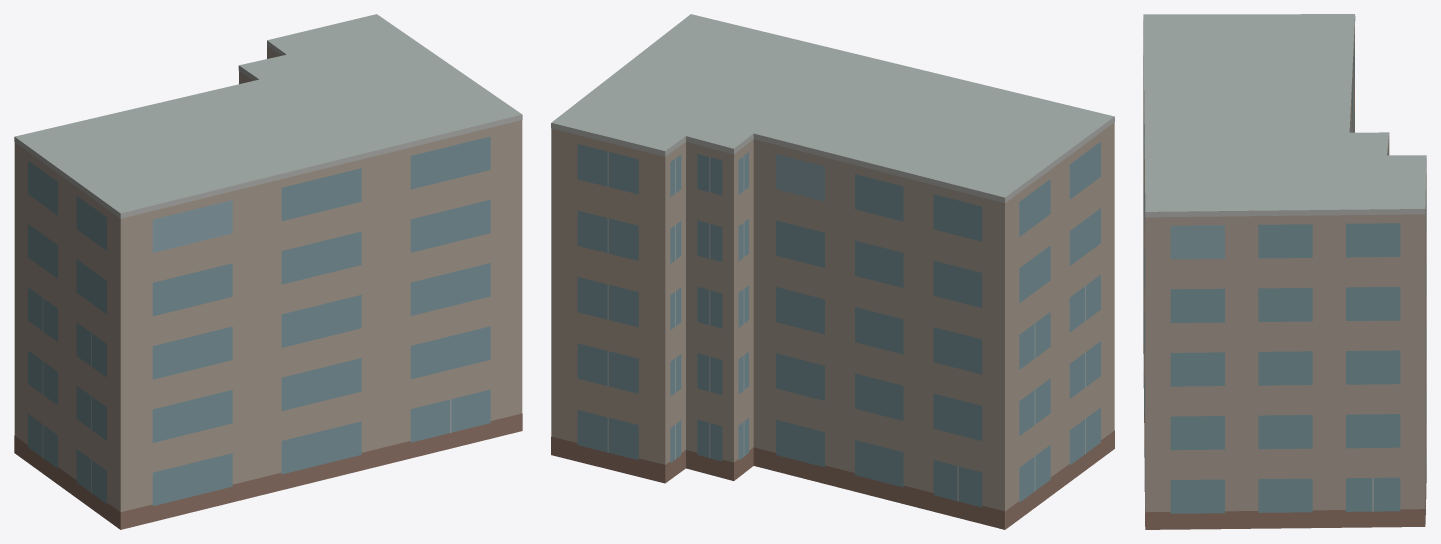
The model's file is survey-upis-32631863.glb.
The picture shows the model from 3 angles, left to right: view 1: azimuth 30°, elevation 25°; view 2: azimuth 150°, elevation 25°; view 3: azimuth 270°, elevation 25°; orthographic projection. The views are drawn at different scales.
Visible parts, largest first — view 1: survey-upis-32631863.tmp; view 2: survey-upis-32631863.tmp; view 3: survey-upis-32631863.tmp.
Part boxes in pixels (<box>): survey-upis-32631863.tmp: <box>14,14,522,529</box>; survey-upis-32631863.tmp: <box>551,14,1114,529</box>; survey-upis-32631863.tmp: <box>1143,14,1426,529</box>.
Size of the model in its own units: 19.23 by 14.4 by 11.63.
